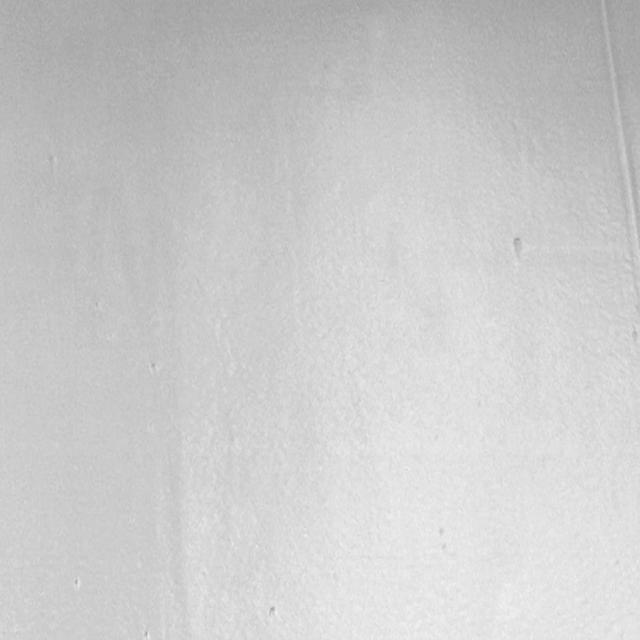pin holes: (508, 236, 530, 264), (267, 605, 280, 622), (149, 361, 162, 376), (72, 576, 82, 591), (140, 628, 152, 639)
